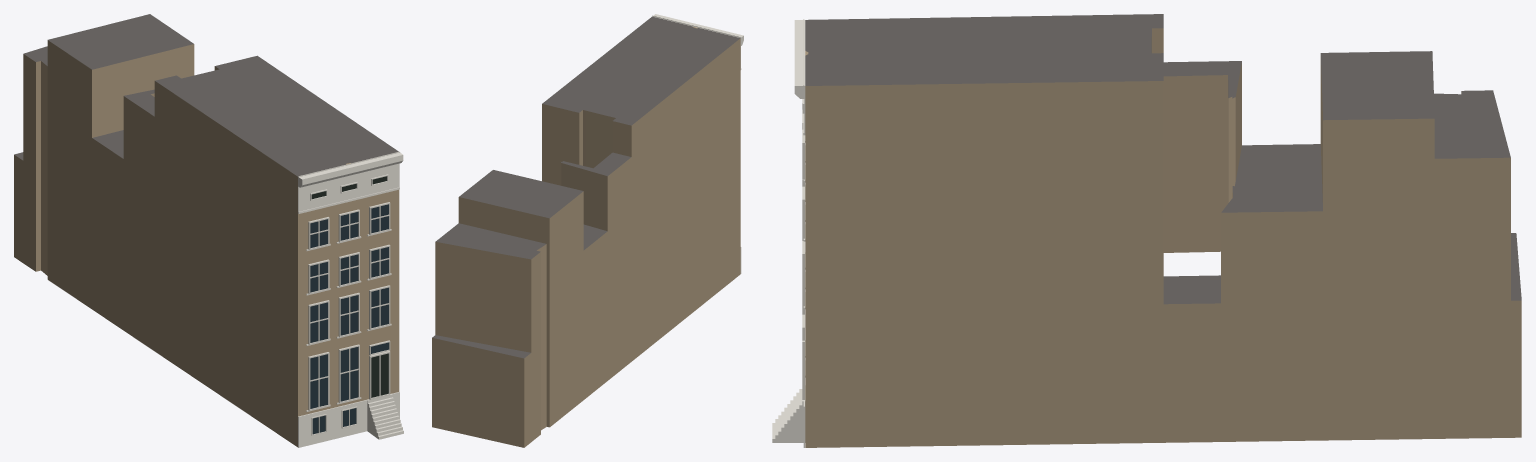
3 views of the same model, side by side, from view 1: azimuth 30°, elevation 25°; view 2: azimuth 150°, elevation 25°; view 3: azimuth 270°, elevation 25° (orthographic). The views are drawn at different scales.
Parts seen in each view (by area): view 1: spec-0363100012175699; view 2: spec-0363100012175699; view 3: spec-0363100012175699.
Part boxes in pixels (box(x1,y1,x2,y2)): spec-0363100012175699: box(14, 14, 403, 447); spec-0363100012175699: box(432, 14, 743, 447); spec-0363100012175699: box(772, 14, 1521, 447).
Size of the model in its own units: 7.77 by 16.89 by 31.63.
